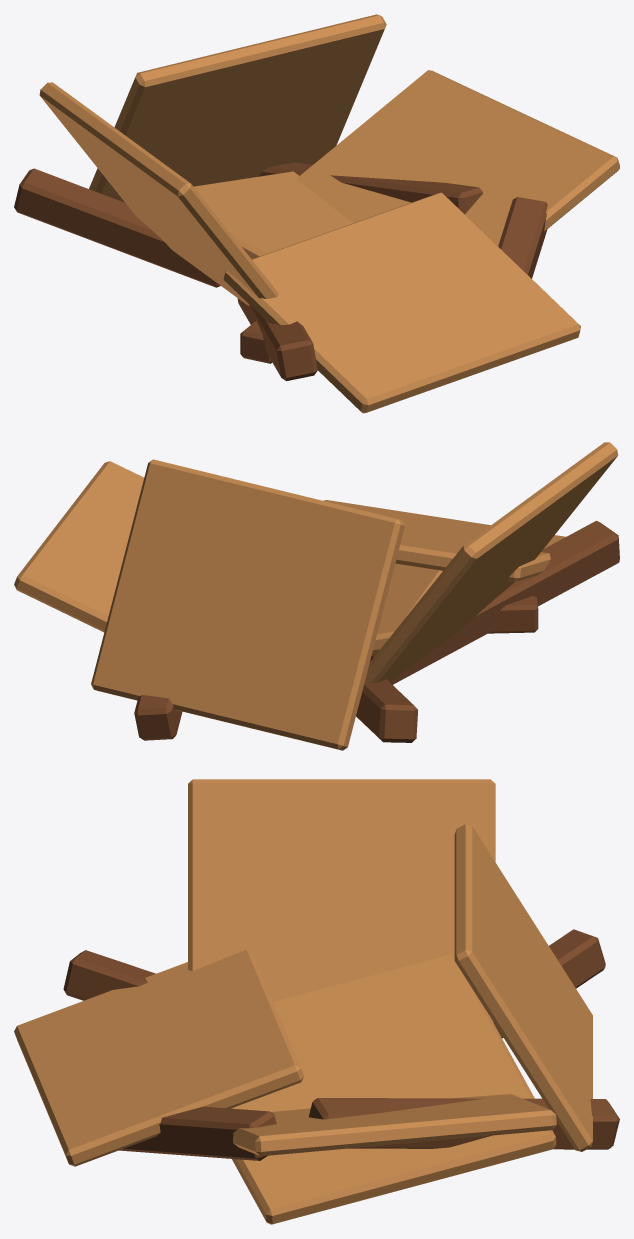
The model's file is prop_crate_c_broken.glb.
3 renders of one model, top to bottom at view 1: azimuth 30°, elevation 25°; view 2: azimuth 150°, elevation 25°; view 3: azimuth 270°, elevation 25°, orthographic. The views are drawn at different scales.
Parts seen in each view (by area): view 1: prop_crate_c_chunk_04, prop_crate_c_chunk_03, prop_crate_c_chunk_02, prop_crate_c_chunk_01, prop_crate_c_chunk_06, prop_crate_c_chunk_07, prop_crate_c_chunk_05, prop_crate_c_chunk_08; view 2: prop_crate_c_chunk_03, prop_crate_c_chunk_01, prop_crate_c_chunk_02, prop_crate_c_chunk_05, prop_crate_c_chunk_04, prop_crate_c_chunk_06, prop_crate_c_chunk_07, prop_crate_c_chunk_08; view 3: prop_crate_c_chunk_01, prop_crate_c_chunk_07, prop_crate_c_chunk_04, prop_crate_c_chunk_03, prop_crate_c_chunk_02, prop_crate_c_chunk_05, prop_crate_c_chunk_06.
Boxes of the visible parts, x1,y1,x2,y2 form: prop_crate_c_chunk_04: (223, 192, 580, 413); prop_crate_c_chunk_03: (89, 14, 386, 202); prop_crate_c_chunk_02: (296, 70, 619, 246); prop_crate_c_chunk_01: (39, 82, 278, 305); prop_crate_c_chunk_06: (14, 168, 547, 287); prop_crate_c_chunk_07: (194, 171, 352, 258); prop_crate_c_chunk_05: (237, 162, 482, 381); prop_crate_c_chunk_08: (240, 320, 272, 363); prop_crate_c_chunk_03: (91, 459, 404, 750); prop_crate_c_chunk_01: (365, 442, 618, 682); prop_crate_c_chunk_02: (14, 461, 143, 632); prop_crate_c_chunk_05: (134, 520, 619, 740); prop_crate_c_chunk_04: (323, 500, 565, 581); prop_crate_c_chunk_06: (356, 679, 417, 742); prop_crate_c_chunk_07: (372, 563, 442, 653); prop_crate_c_chunk_08: (488, 595, 538, 633); prop_crate_c_chunk_01: (188, 779, 495, 1023); prop_crate_c_chunk_07: (231, 954, 556, 1224); prop_crate_c_chunk_04: (14, 949, 303, 1166); prop_crate_c_chunk_03: (454, 824, 592, 1151); prop_crate_c_chunk_02: (233, 1094, 556, 1156); prop_crate_c_chunk_05: (63, 950, 619, 1149); prop_crate_c_chunk_06: (119, 929, 605, 1160).
Size of the model in its own units: 2.19 by 1.01 by 2.24.
